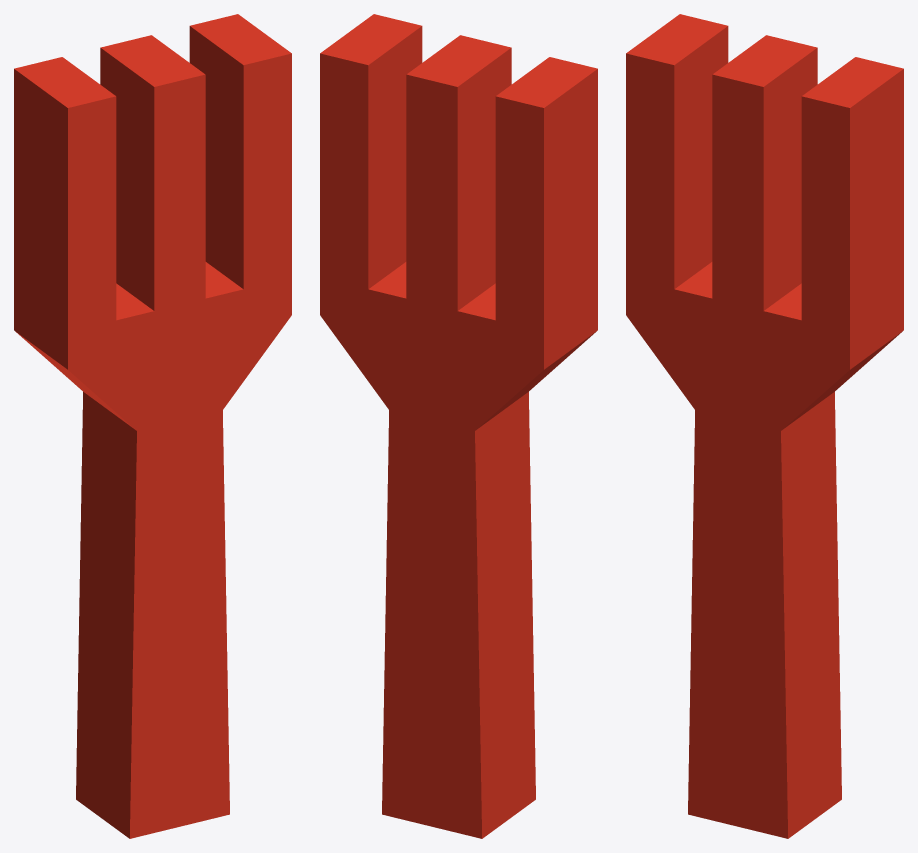
The model's file is Icon_Fork.fbx.
The picture shows the model from 3 angles, left to right: view 1: azimuth 30°, elevation 25°; view 2: azimuth 150°, elevation 25°; view 3: azimuth 330°, elevation 25°; orthographic projection.
Parts seen in each view (by area): view 1: Icon_Fork; view 2: Icon_Fork; view 3: Icon_Fork.
Part boxes in pixels (x1,y1,x2,y2): Icon_Fork: (14,14,291,838); Icon_Fork: (320,14,597,838); Icon_Fork: (626,14,903,838).
Bounding box in the file's own units: 23.7 × 75.38 × 9.87.
